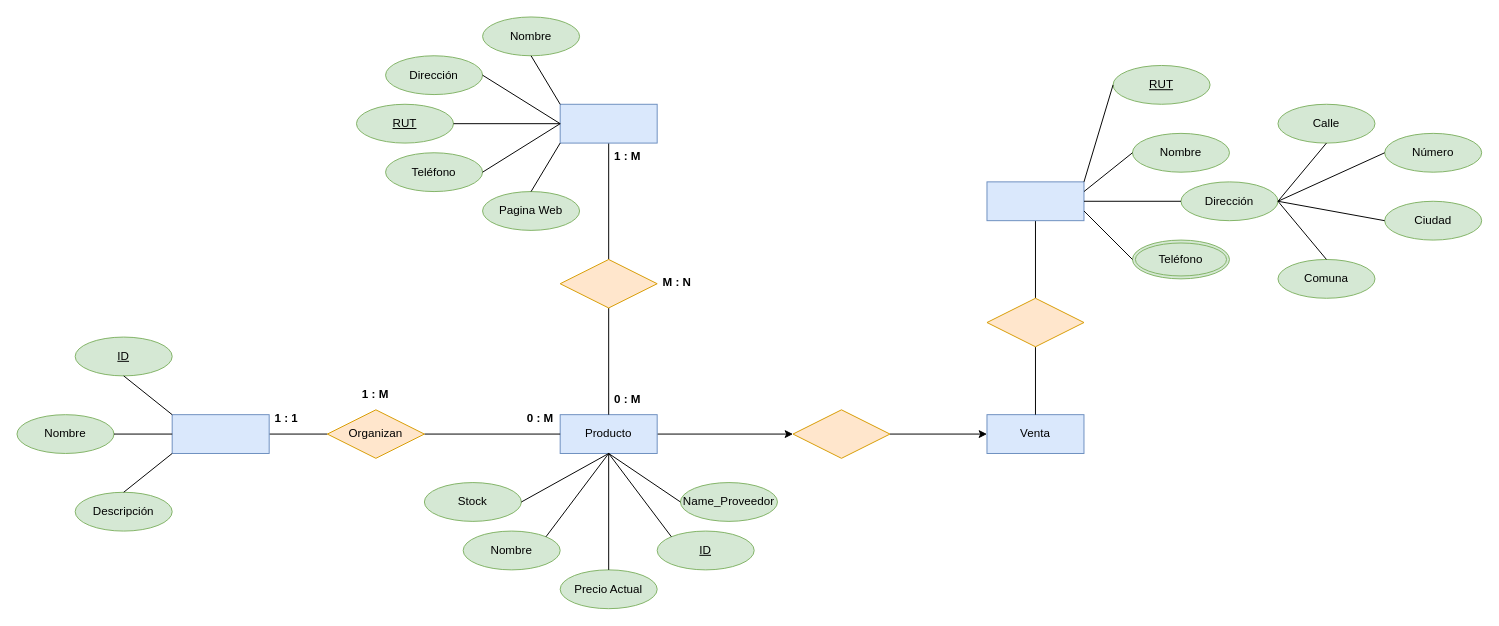
The diagram is 1499 pixels wide and 626 high, and some of its shapes have lost their labels. Each missing label, with the centre of its shape:
Categoría: [220,433]
Cliente: [1035,201]
Concreta: [1035,322]
Concretar: [841,433]
Proveedor: [608,123]
Proveer: [608,283]
